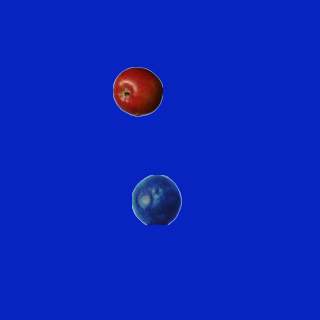Apple Braeburn: (112, 66, 162, 116)
Huckleberry: (131, 174, 181, 224)
